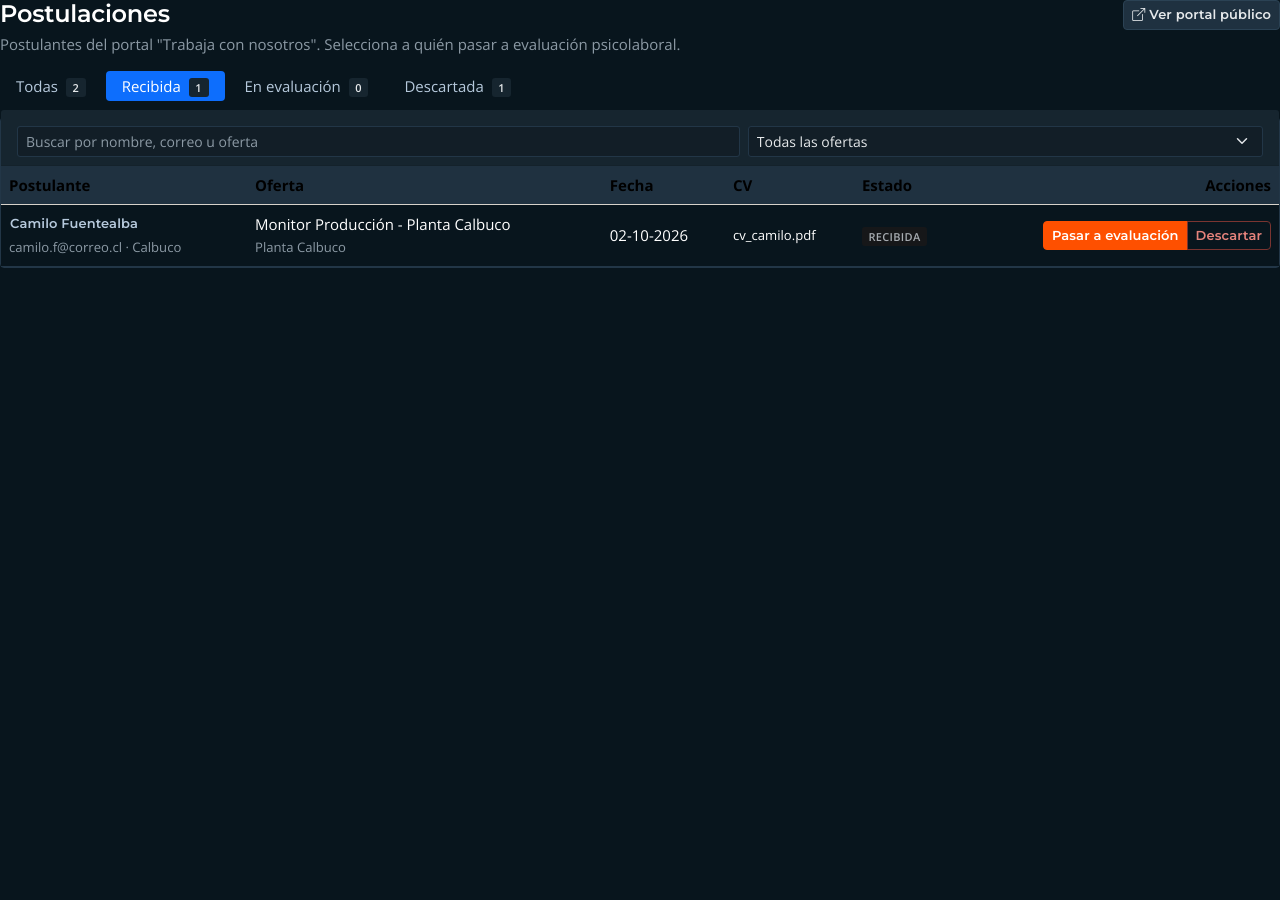
it: Postulaciones (bandeja del analista) › abre el detalle del postulante al pinchar su nombre o su fila
Click the button with aria-label "Ver detalle de Camilo Fuentealba".
click(74, 224)  # box [9,213,139,234]
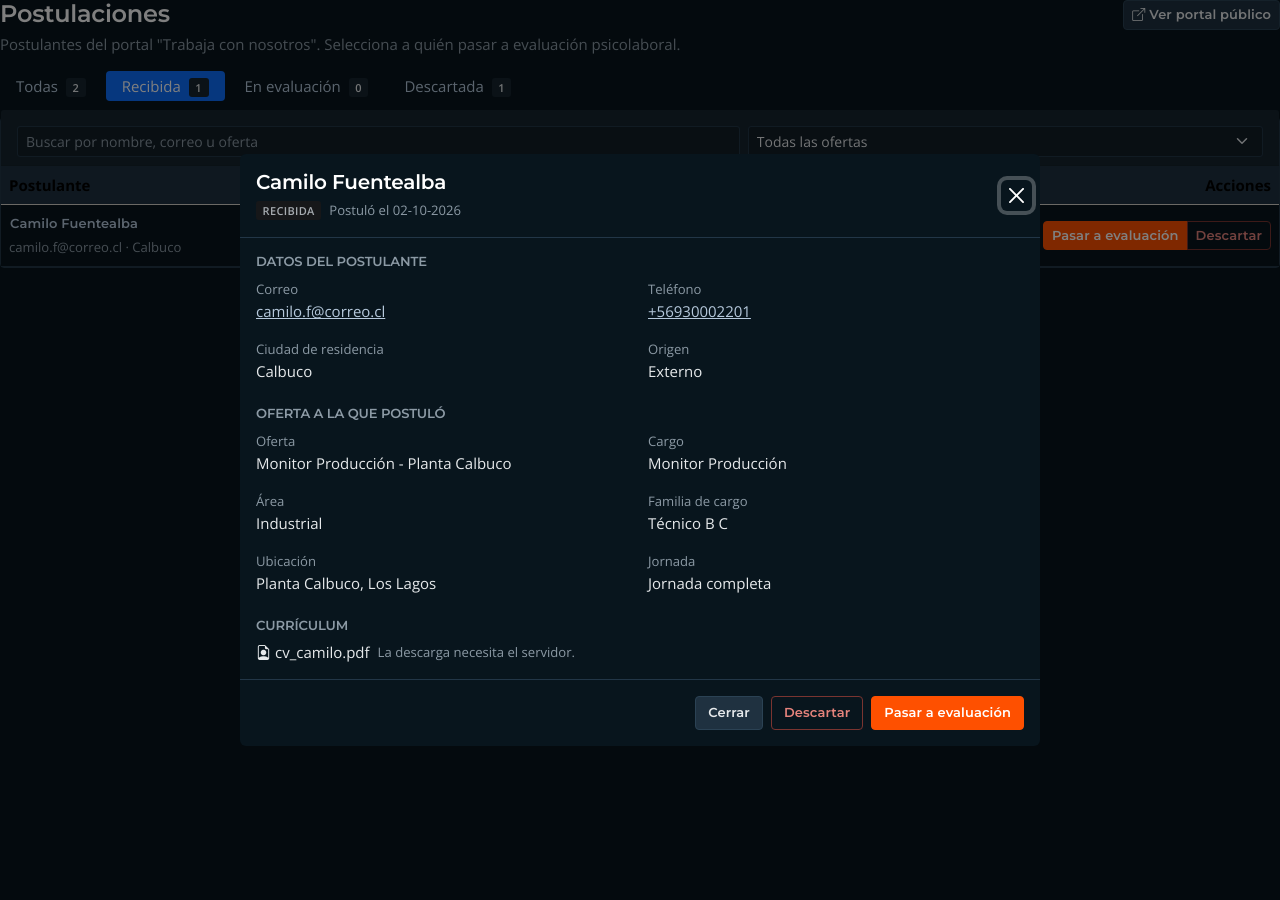
expect the text "Monitor Producción - Planta Calbuco" is shown: met, box [256,453,512,473]
Click the button "Cerrar".
click(729, 713)  # box [695,696,763,730]
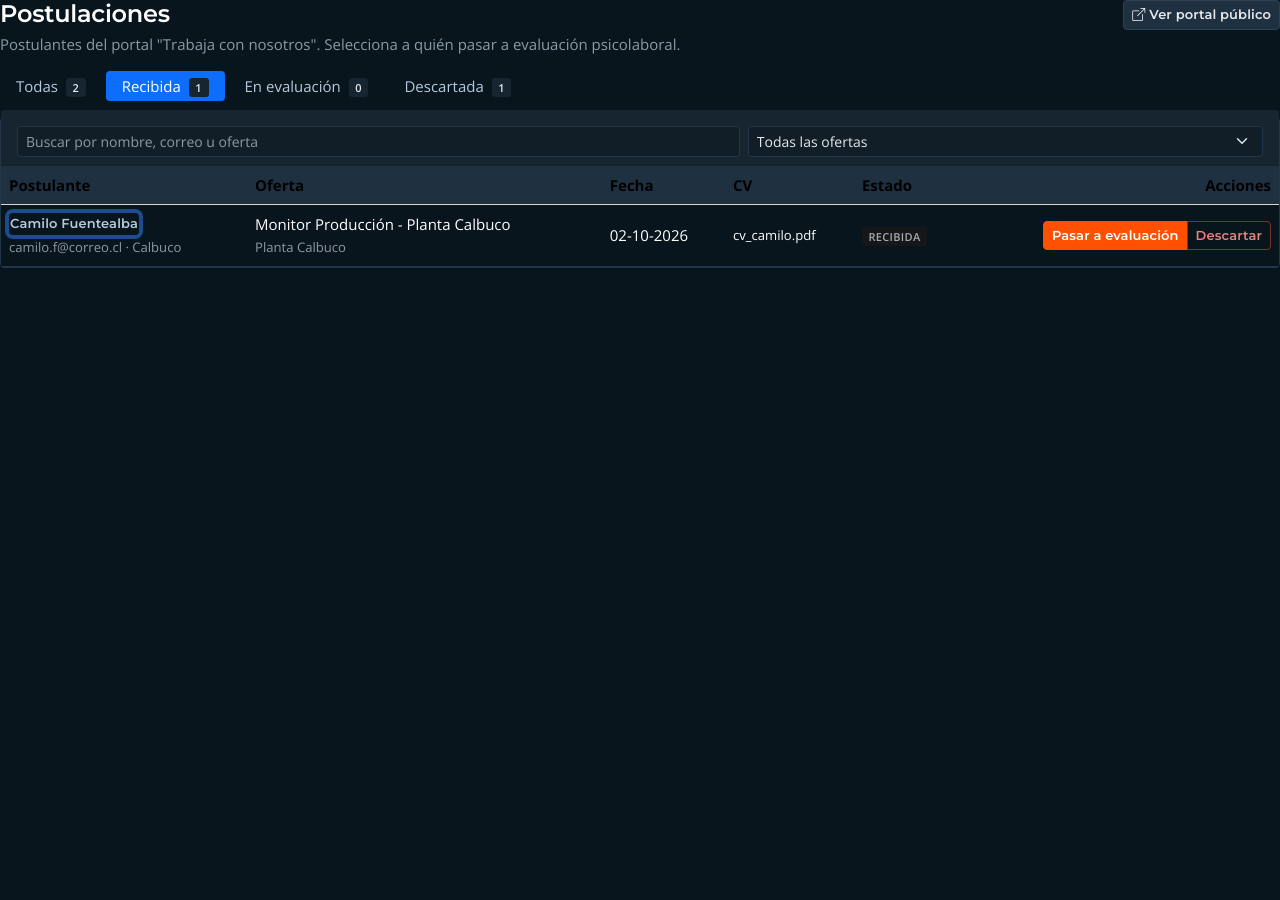
expect the dialog is gone: met
Click the cell "Monitor Producción - Planta Calbuco Planta Calbuco".
click(424, 235)  # box [247,204,602,266]
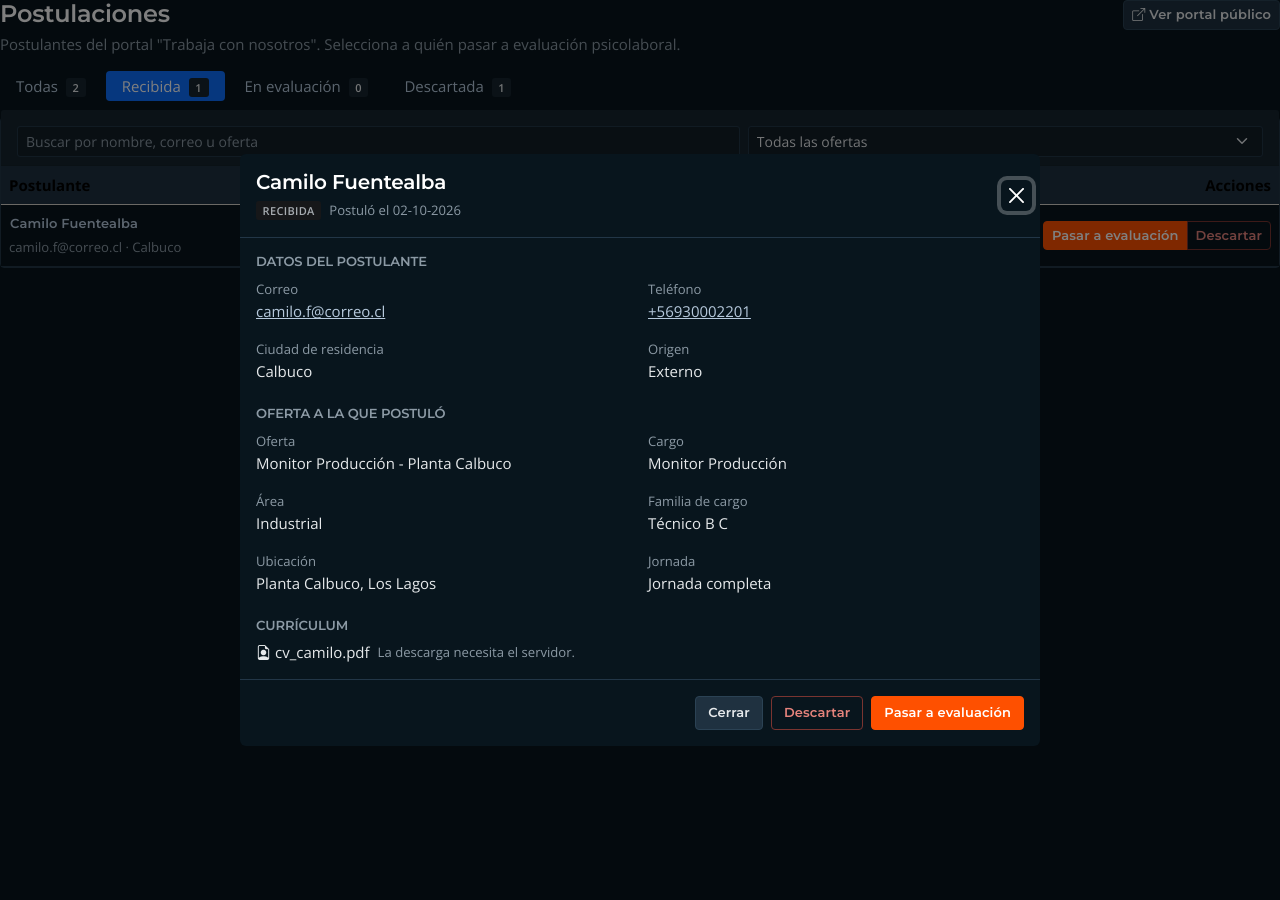
Click the button "Descartar".
click(817, 713)  # box [771,696,863,730]
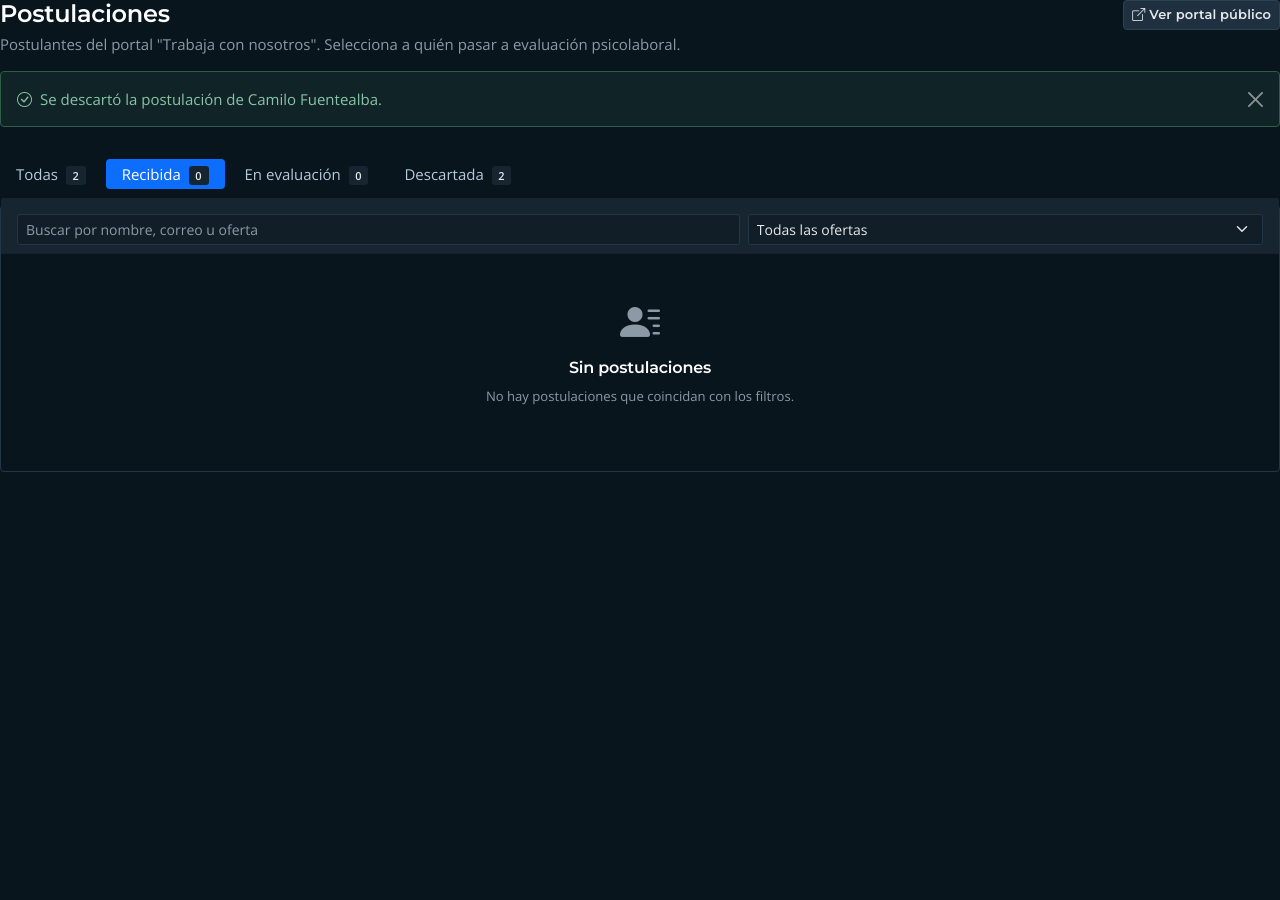
expect the dialog is gone: met
expect the text "Se descartó la postulación de Camilo Fuentealba." is shown: met, box [40,89,382,109]
